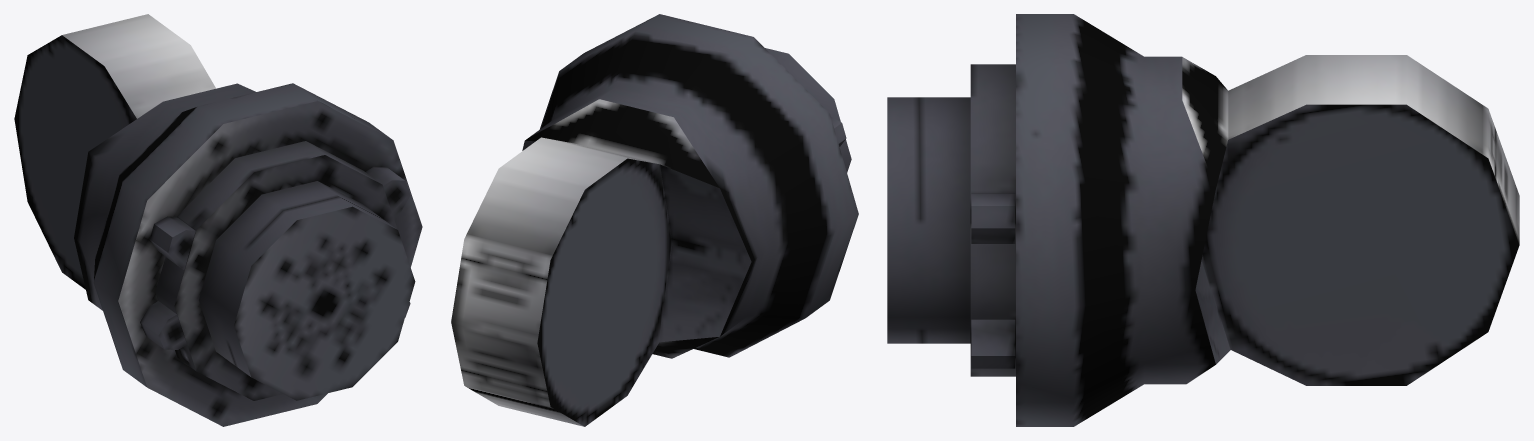
The model's file is r_hand.obj.
3 renders of one model, left to right at view 1: azimuth 30°, elevation 25°; view 2: azimuth 150°, elevation 25°; view 3: azimuth 270°, elevation 25°, orthographic. The views are drawn at different scales.
Parts seen in each view (by area): view 1: <dummy_root>; view 2: <dummy_root>; view 3: <dummy_root>.
Part boxes in pixels (box(x1,y1,x2,y2)): <dummy_root>: box(14, 14, 422, 426); <dummy_root>: box(451, 14, 858, 426); <dummy_root>: box(887, 14, 1519, 426).
Bounding box in the file's own units: 0.1021 × 0.0971 × 0.1551.
Materials: 1 (1 with a texture image).
